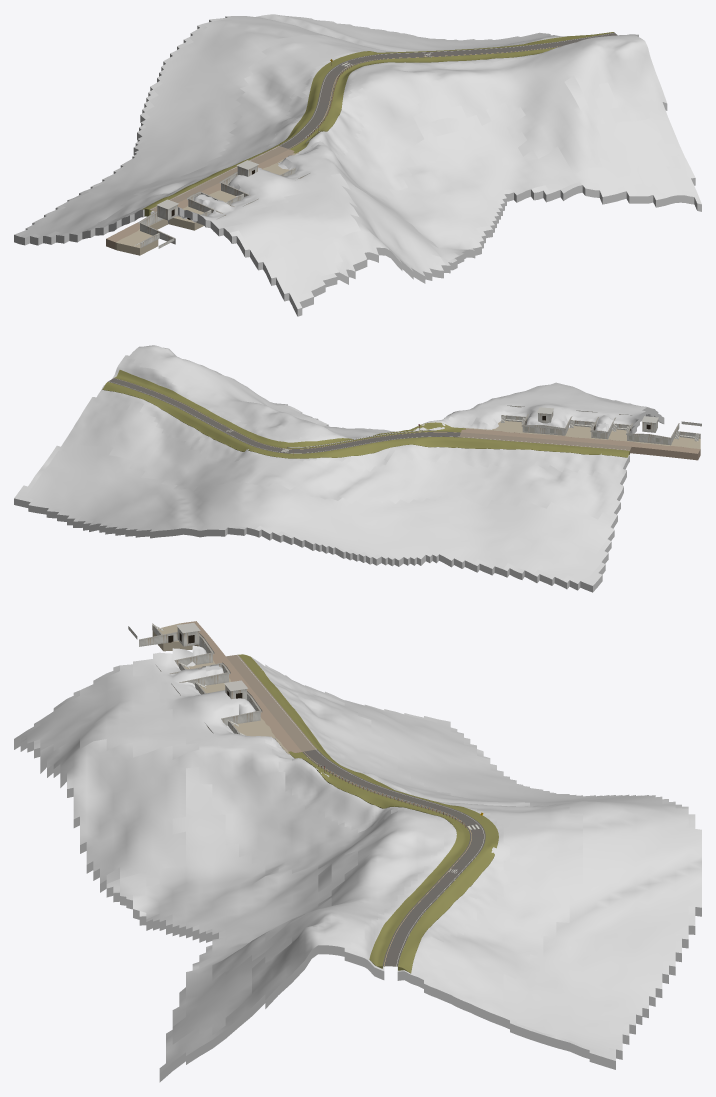
Rendered from conz_19.glb.
3 renders of one model, top to bottom at view 1: azimuth 30°, elevation 25°; view 2: azimuth 150°, elevation 25°; view 3: azimuth 270°, elevation 25°, orthographic. The views are drawn at different scales.
Visible parts, largest first — view 1: terrain19, road19, verge19R, posts_bat19, verge19L, lot_bata19, road19p, lot_batg19; view 2: terrain19, verge19R, road19, posts_bat19, verge19L, lot_batg19, lot_bata19, road19p; view 3: terrain19, verge19R, road19, verge19L, posts_bat19, road19p, lot_batg19, lot_bata19.
Boxes of the visible parts, x1,y1,x2,y2 form: terrain19: (14,14,701,316); road19: (279,32,617,149); verge19R: (141,32,614,216); posts_bat19: (135,160,310,248); verge19L: (290,47,556,153); lot_bata19: (115,152,298,255); road19p: (150,146,288,211); lot_batg19: (106,149,294,249); terrain19: (14,345,664,592); verge19R: (102,382,629,458); road19: (108,378,460,453); posts_bat19: (500,405,701,445); verge19L: (114,370,465,448); lot_batg19: (461,429,700,460); lot_bata19: (463,420,700,455); road19p: (459,432,631,450); terrain19: (14,645,701,1082); verge19R: (238,654,498,973); road19: (302,749,485,966); verge19L: (288,751,469,968); posts_bat19: (128,623,262,735); road19p: (226,654,316,751); lot_batg19: (182,621,301,752); lot_bata19: (152,623,289,754).
Bounding box in the file's own units: 254 × 50.4 × 208.
